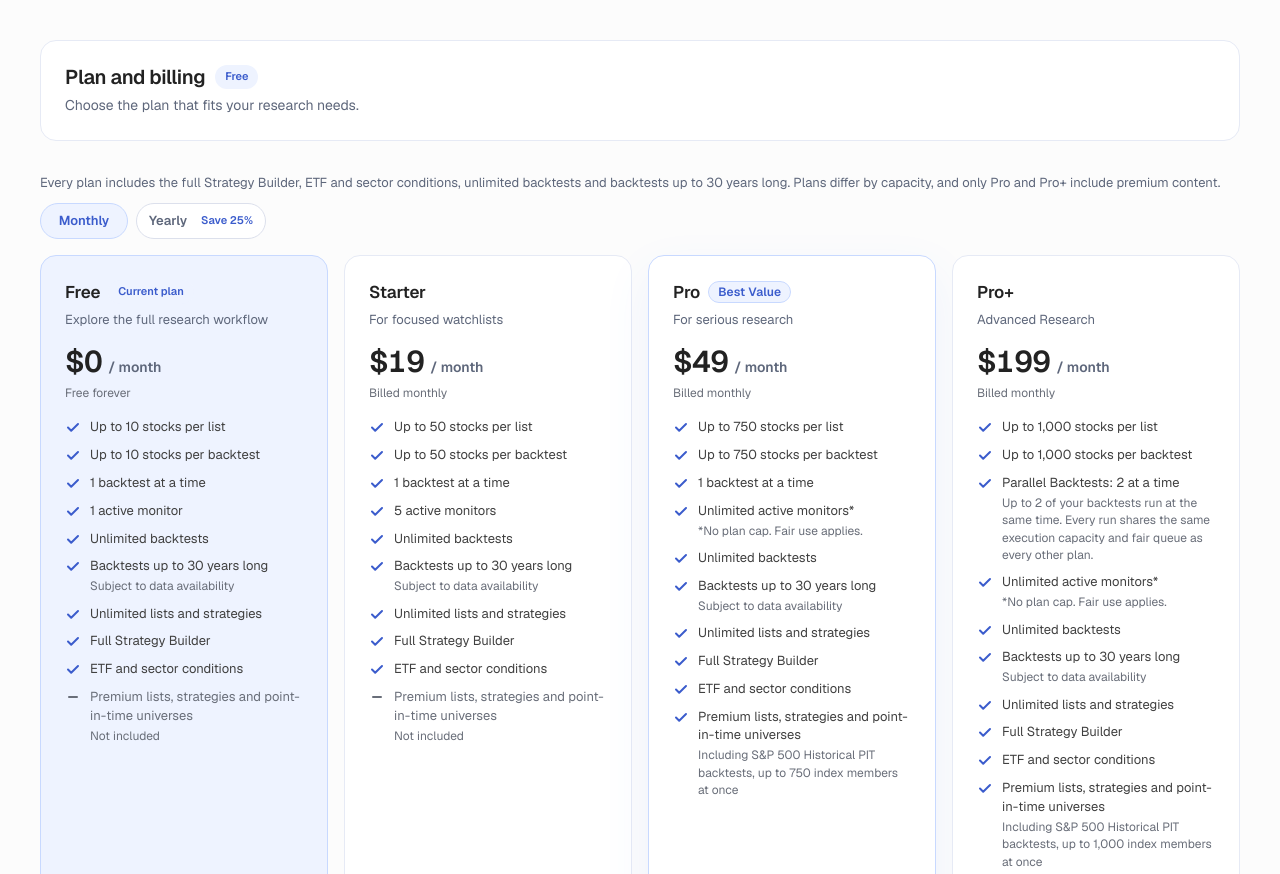
Scenario: BillingPage › re-prices the cards yearly: the monthly cost, the annual amount billed upfront, the saving
Click the radio button labelled "Yearly Save 25%". click: [201, 220]
box: left=136, top=202, right=266, bottom=238
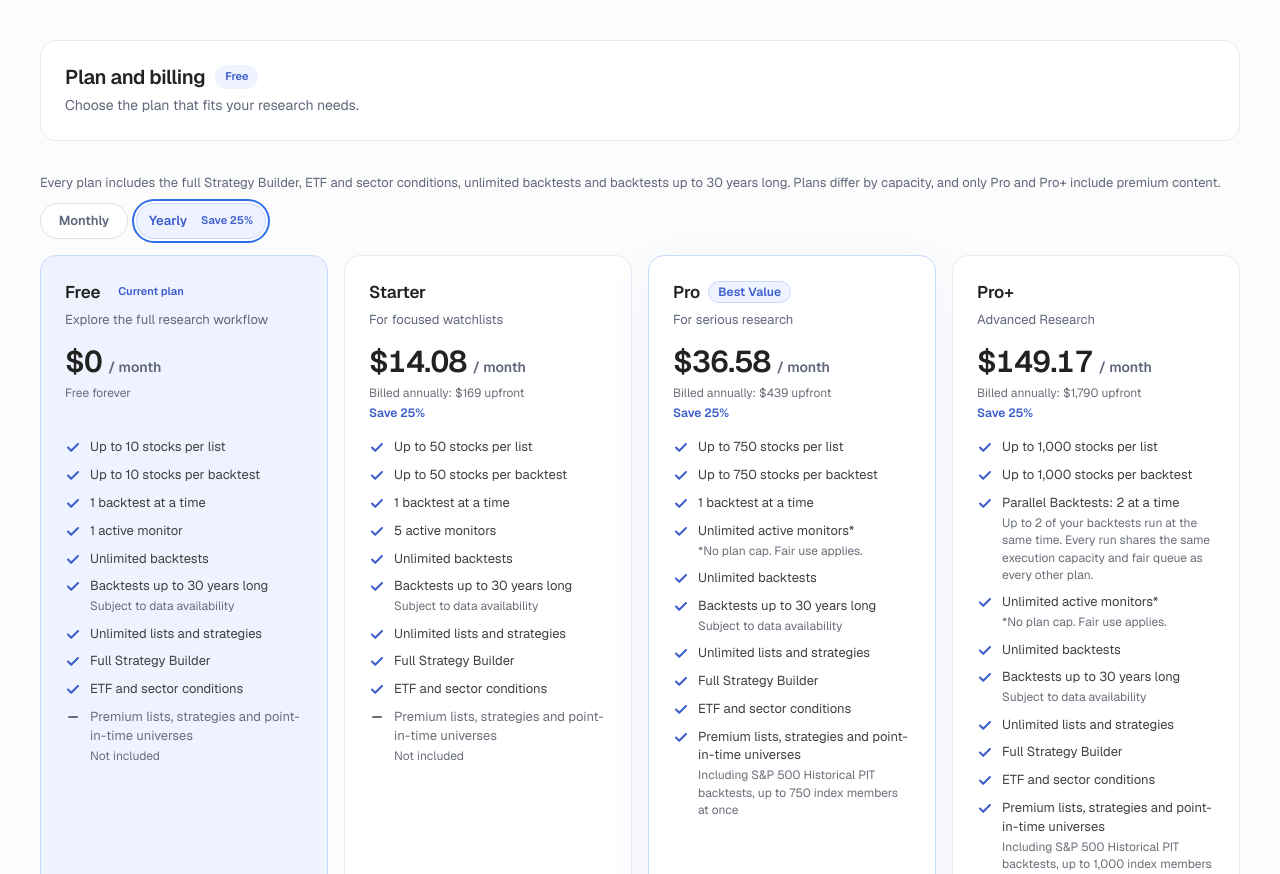
Expected: the text with test id "plan-tagline-PRO_PLUS" reads "Advanced Research", left=977, top=311, right=1095, bottom=328
Now the text with test id "plan-price-note-PRO_PLUS" reads "Billed annually: $1,790 upfront", box left=977, top=385, right=1142, bottom=401
